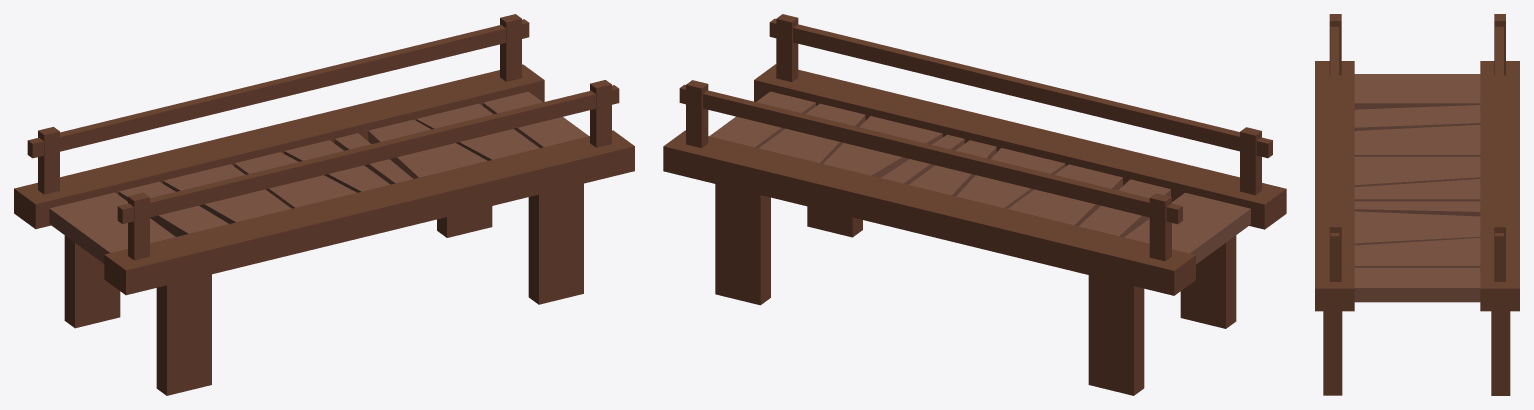
The model's file is bridge_fbx.fbx.
3 renders of one model, left to right at view 1: azimuth 30°, elevation 25°; view 2: azimuth 150°, elevation 25°; view 3: azimuth 270°, elevation 25°, orthographic. The views are drawn at different scales.
Visible parts, largest first — view 1: polySurface22; view 2: polySurface22; view 3: polySurface22.
Part boxes in pixels (left/top/right/bottom): polySurface22: left=14, top=14, right=634, bottom=395; polySurface22: left=663, top=14, right=1286, bottom=395; polySurface22: left=1315, top=14, right=1519, bottom=395.
Size of the model in its own units: 8.63 by 3.23 by 3.28.
